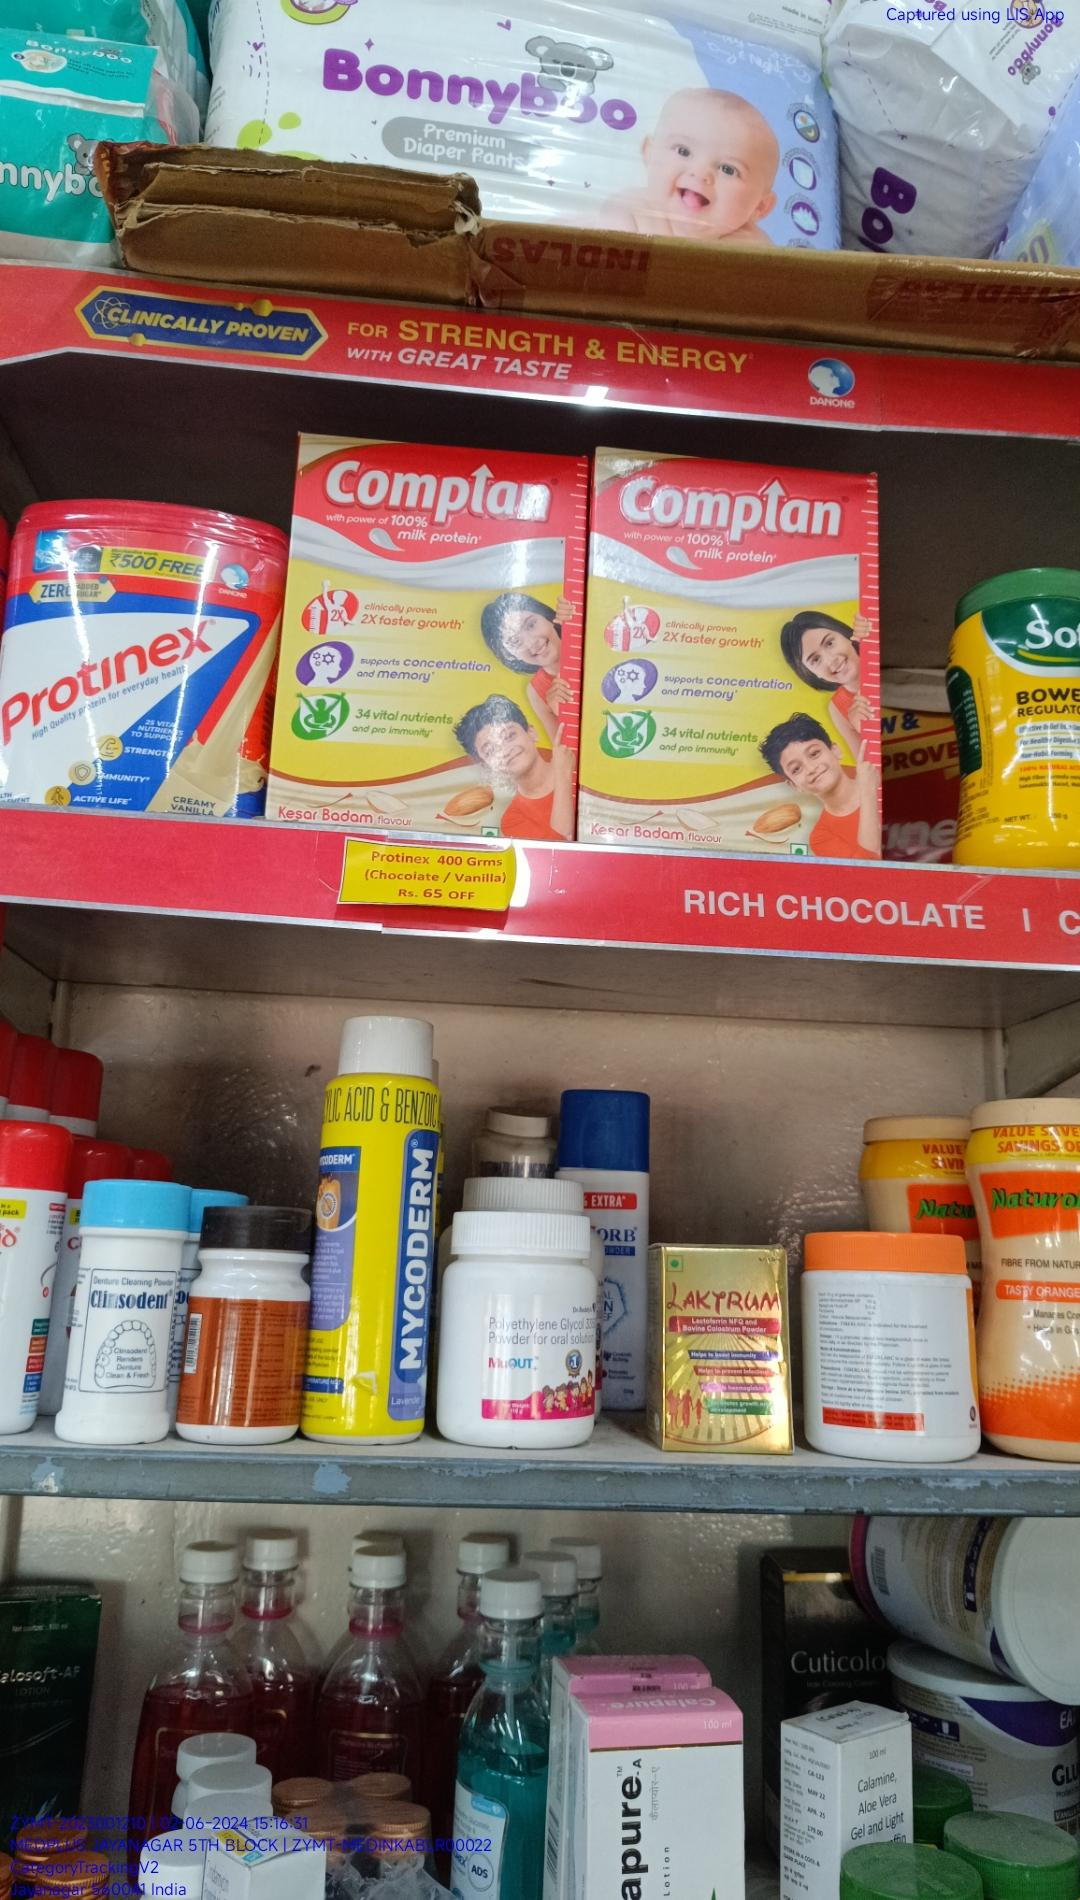PROTINEX_VANILLA_400_G_JAR: (3, 504, 284, 839)
